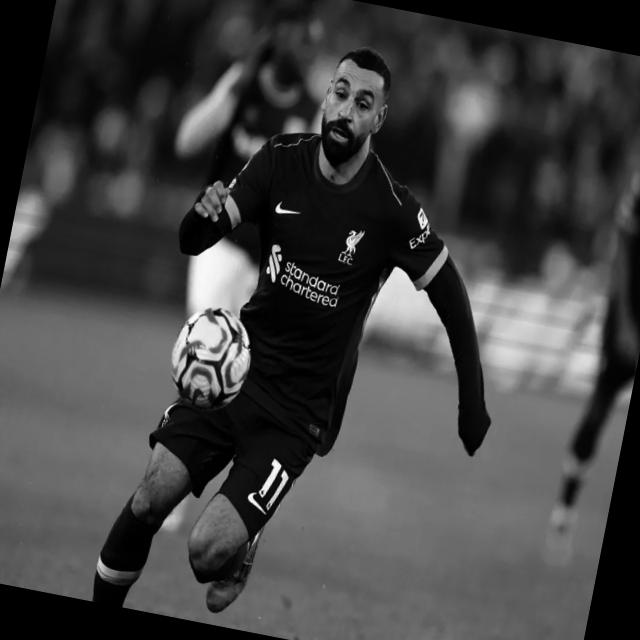football: (170, 308, 252, 413)
